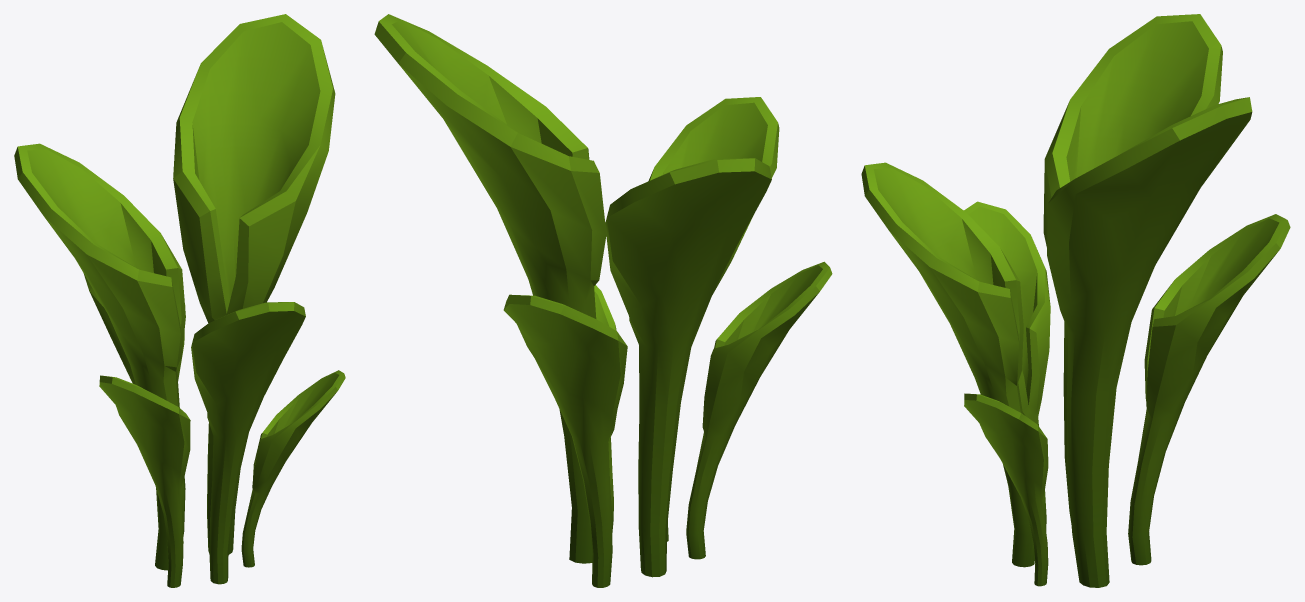
File: garden_plant_1.glb
3 views of the same model, side by side, from view 1: azimuth 30°, elevation 25°; view 2: azimuth 150°, elevation 25°; view 3: azimuth 270°, elevation 25° (orthographic). The views are drawn at different scales.
Parts seen in each view (by area): view 1: garden_plant_1; view 2: garden_plant_1; view 3: garden_plant_1.
Boxes of the visible parts, bbox=[...] form: garden_plant_1: bbox=[14, 14, 345, 587]; garden_plant_1: bbox=[374, 14, 832, 587]; garden_plant_1: bbox=[861, 14, 1290, 587].
Bounding box in the file's own units: 1.41 × 2.03 × 1.45.
Materials: 1 (1 with a texture image).
